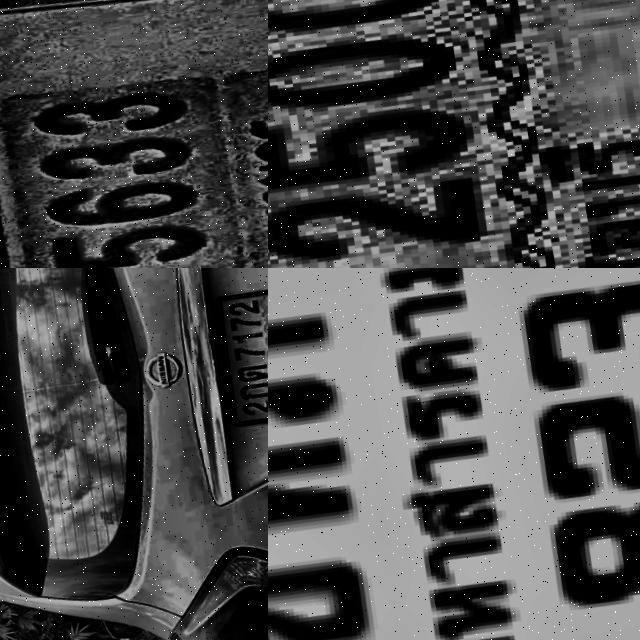license-plate: (268, 268, 640, 640), (268, 0, 640, 268), (0, 0, 268, 268), (208, 273, 268, 427)
